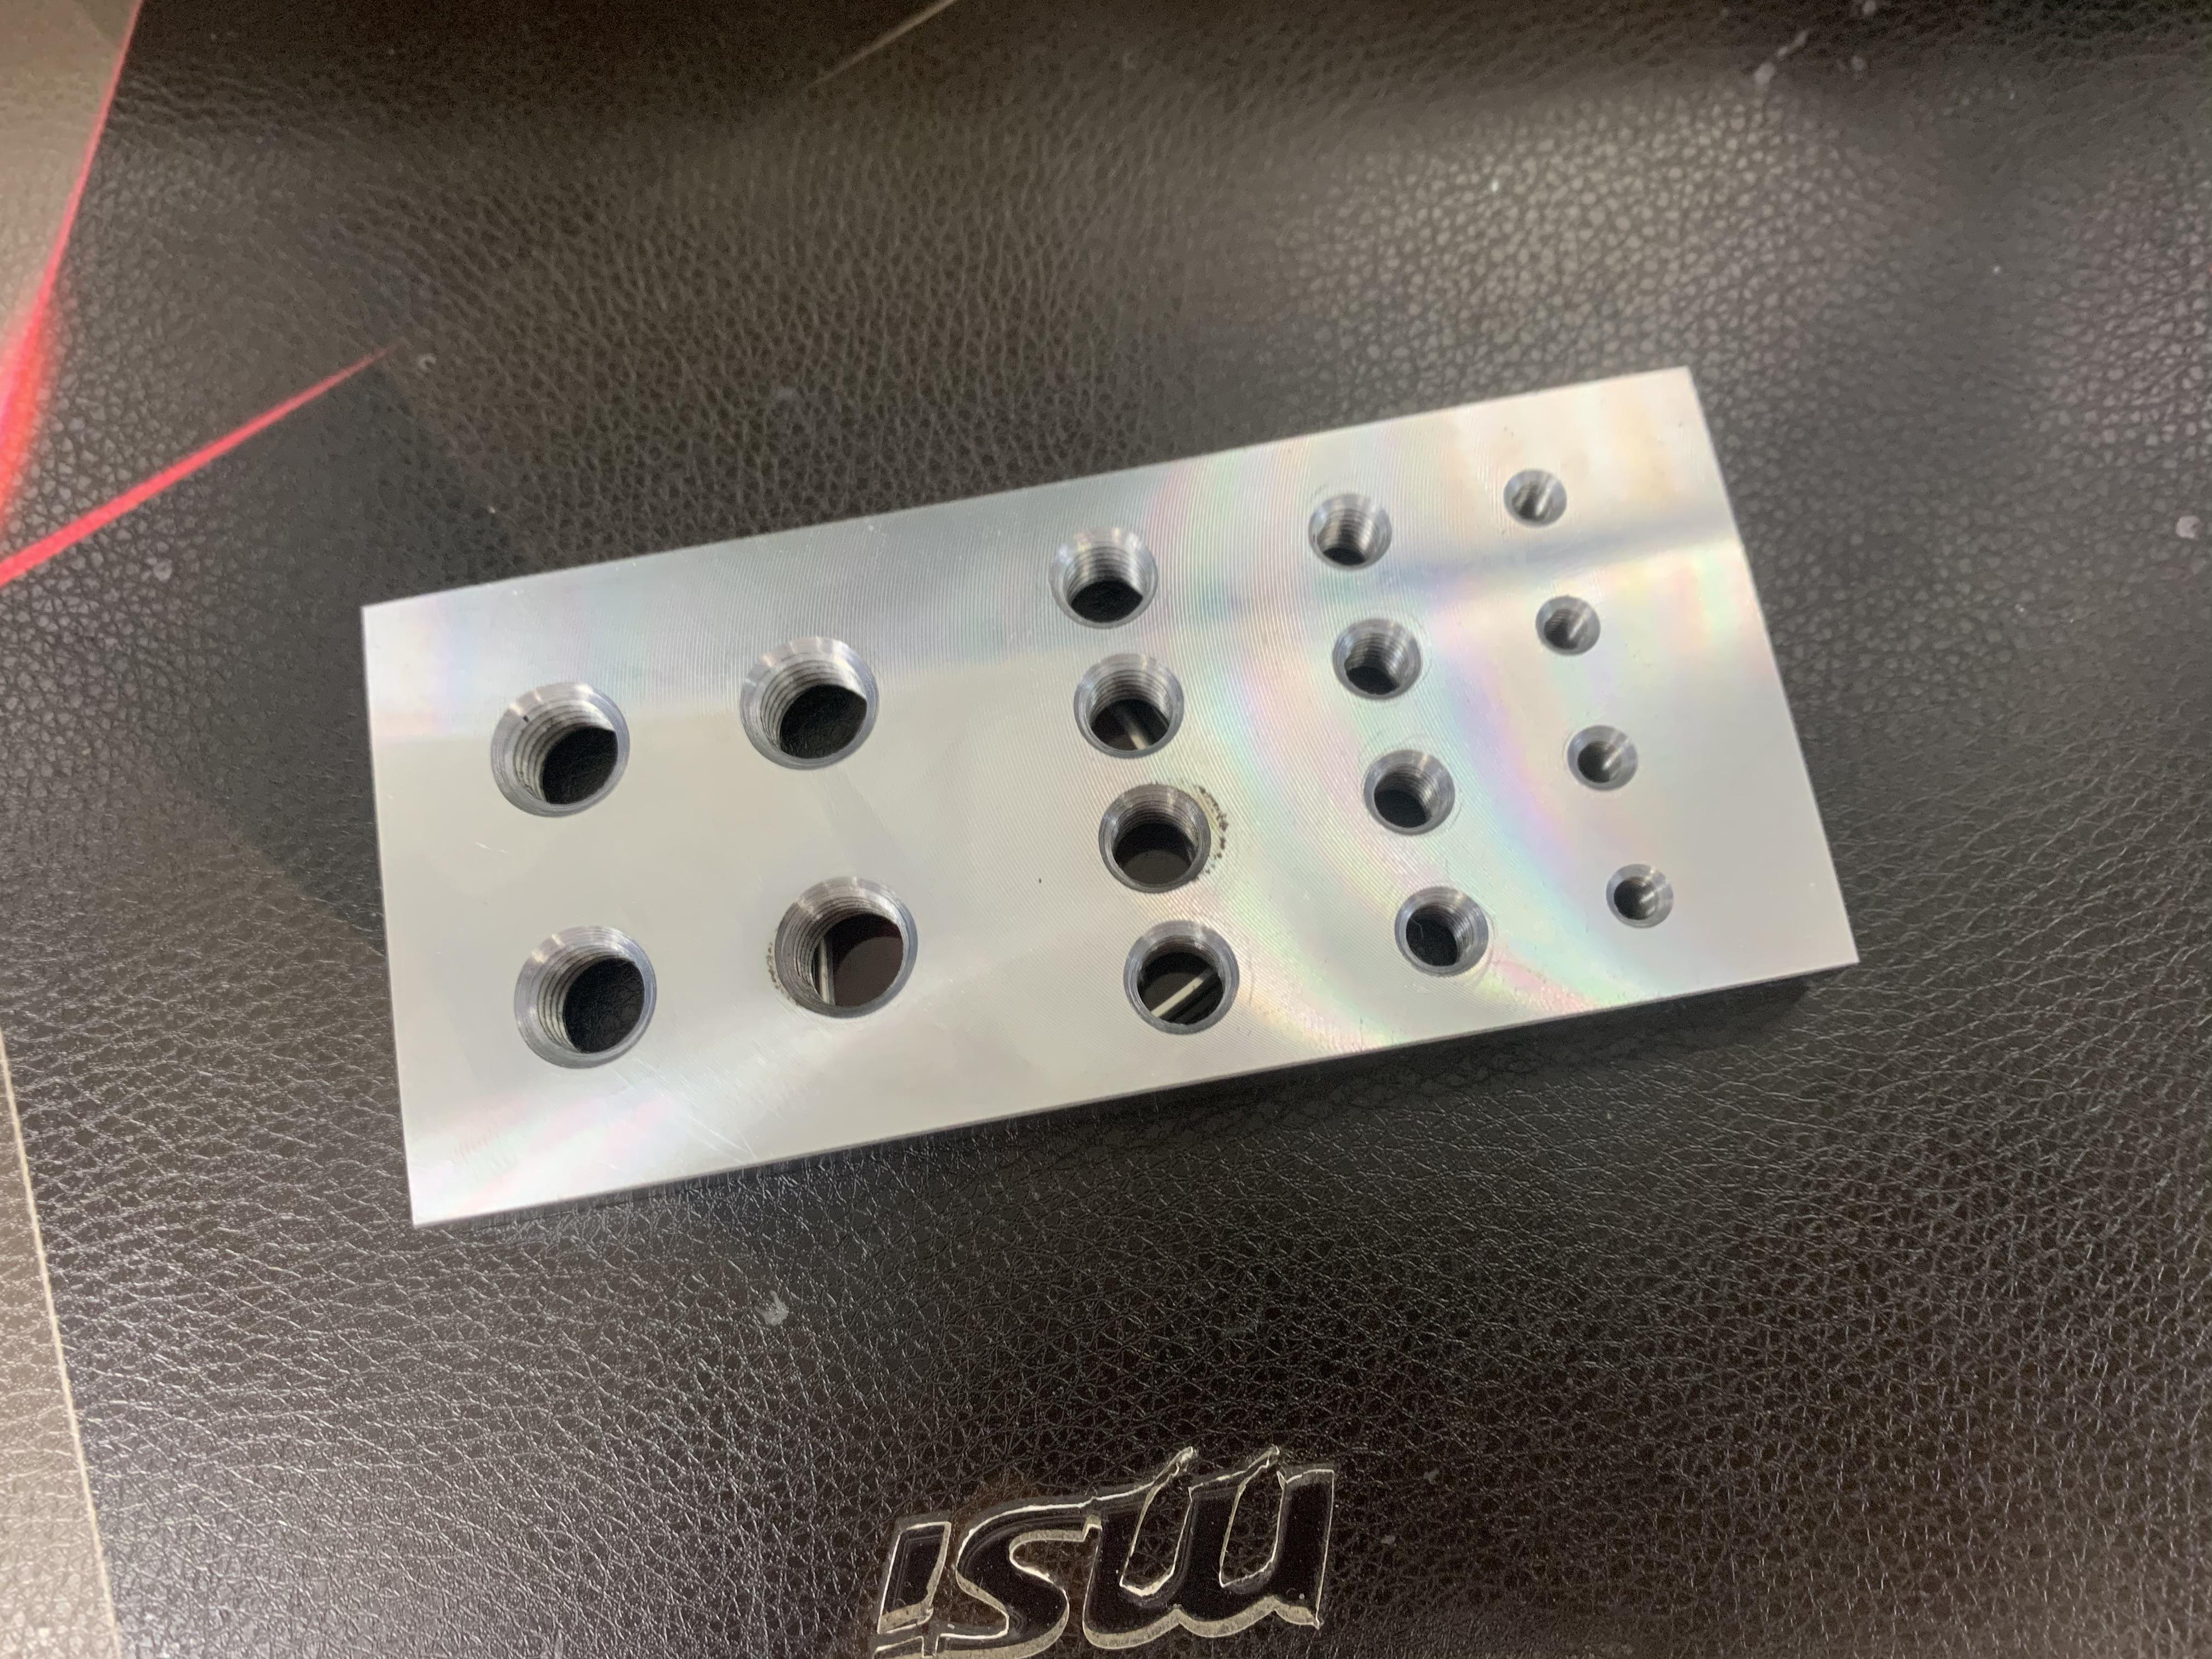hole: (751, 849, 928, 1039), (718, 620, 892, 786), (496, 915, 665, 1077), (470, 664, 641, 824), (1075, 770, 1247, 903), (1115, 906, 1256, 1047), (1055, 640, 1198, 772), (1383, 866, 1507, 993), (1042, 523, 1165, 640), (1312, 606, 1444, 709), (1287, 481, 1411, 591), (1345, 742, 1472, 838), (1510, 573, 1625, 678), (1534, 714, 1660, 805), (1493, 446, 1587, 558), (1590, 842, 1691, 945)
